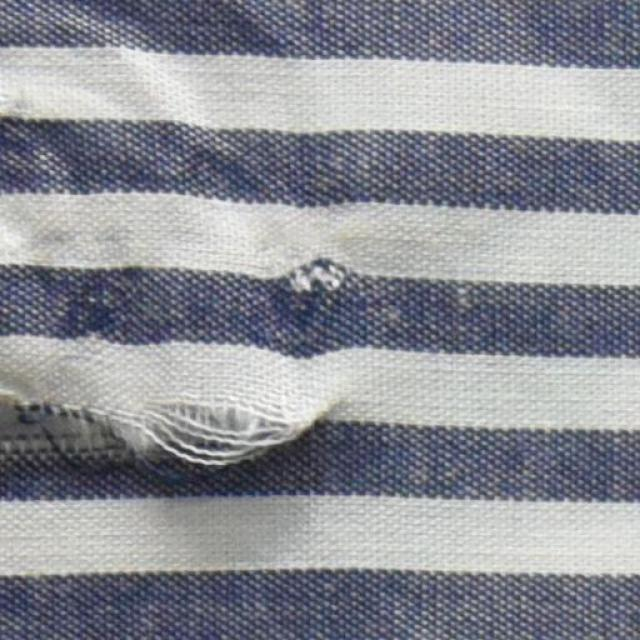cut: (1, 376, 340, 482)
